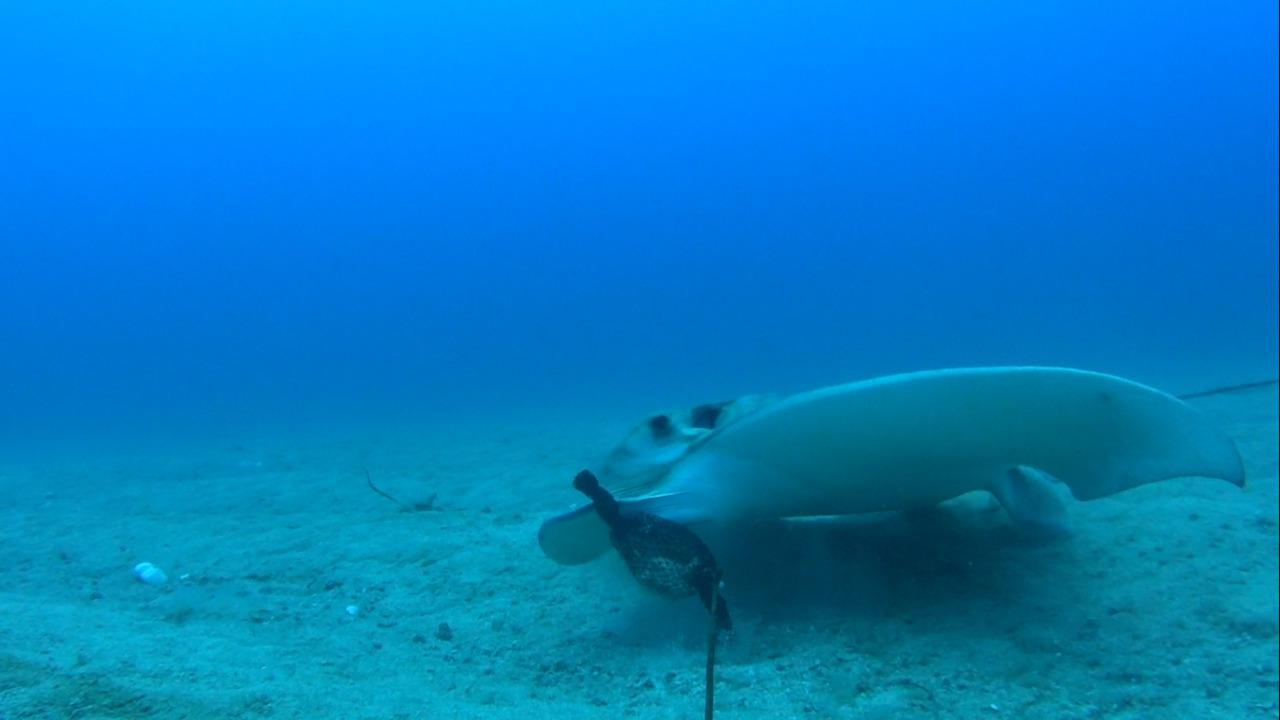myliobatis: (535, 358, 1279, 577)
